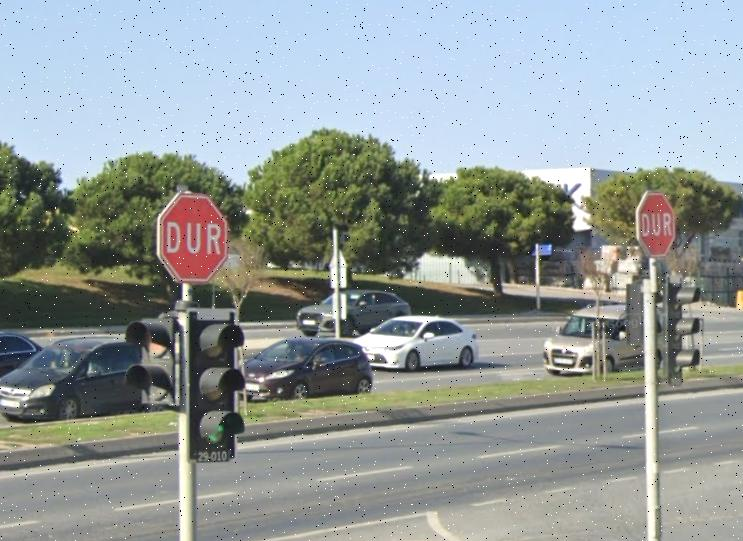greenlight: (190, 312, 241, 467)
stop: (159, 194, 230, 284), (635, 192, 678, 253)
